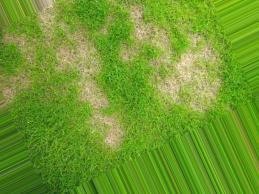patch: (87, 114, 123, 138), (77, 78, 103, 102), (66, 39, 90, 65), (149, 32, 171, 55), (184, 52, 204, 73), (154, 70, 178, 87), (17, 37, 40, 54), (199, 75, 218, 90), (128, 9, 142, 27), (187, 93, 203, 108), (12, 72, 27, 86), (52, 49, 64, 59)
